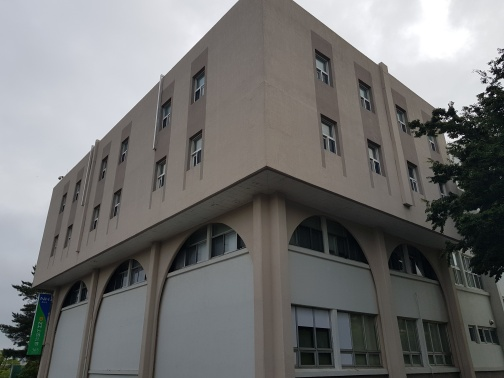Main Building of University: (26, 4, 502, 376), (304, 21, 403, 207), (60, 221, 250, 307), (43, 117, 132, 262), (285, 206, 442, 288), (147, 48, 216, 204), (23, 282, 48, 363)
